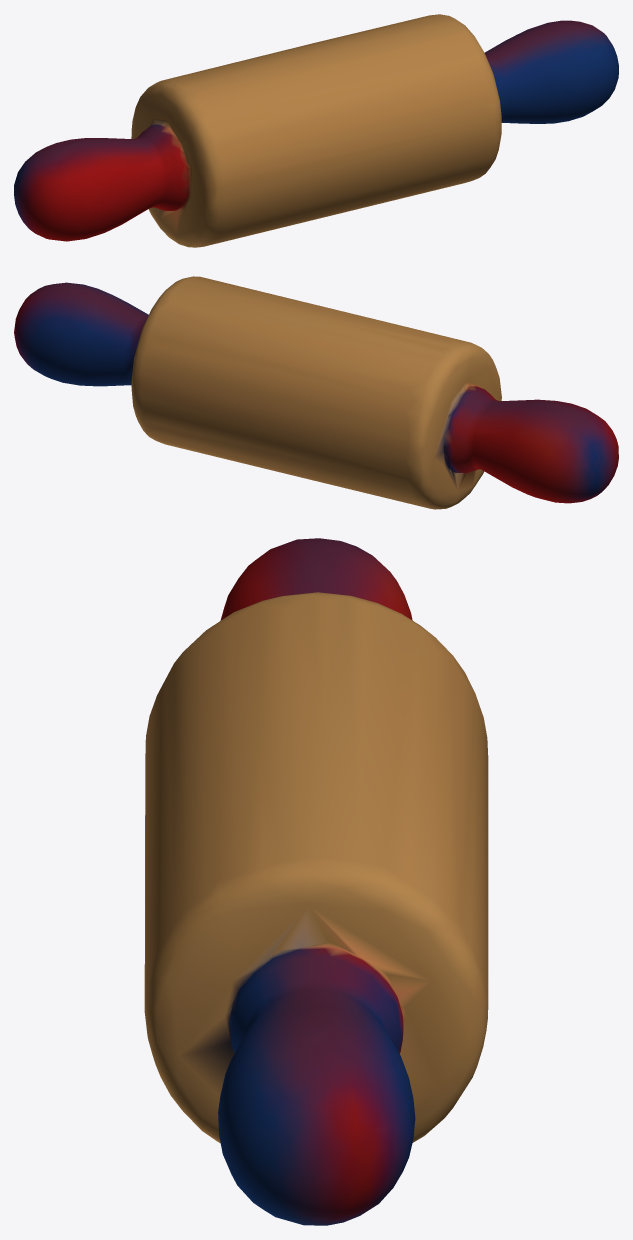
The model's file is meshy-rollingpin.glb.
3 renders of one model, top to bottom at view 1: azimuth 30°, elevation 25°; view 2: azimuth 150°, elevation 25°; view 3: azimuth 270°, elevation 25°, orthographic. The views are drawn at different scales.
Parts seen in each view (by area): view 1: Mesh_0; view 2: Mesh_0; view 3: Mesh_0.
Part boxes in pixels (x1,y1,x2,y2): Mesh_0: (14,14,618,247); Mesh_0: (14,276,618,509); Mesh_0: (144,538,488,1225).
Bounding box in the file's own units: 1.9 × 0.48 × 0.4801.
